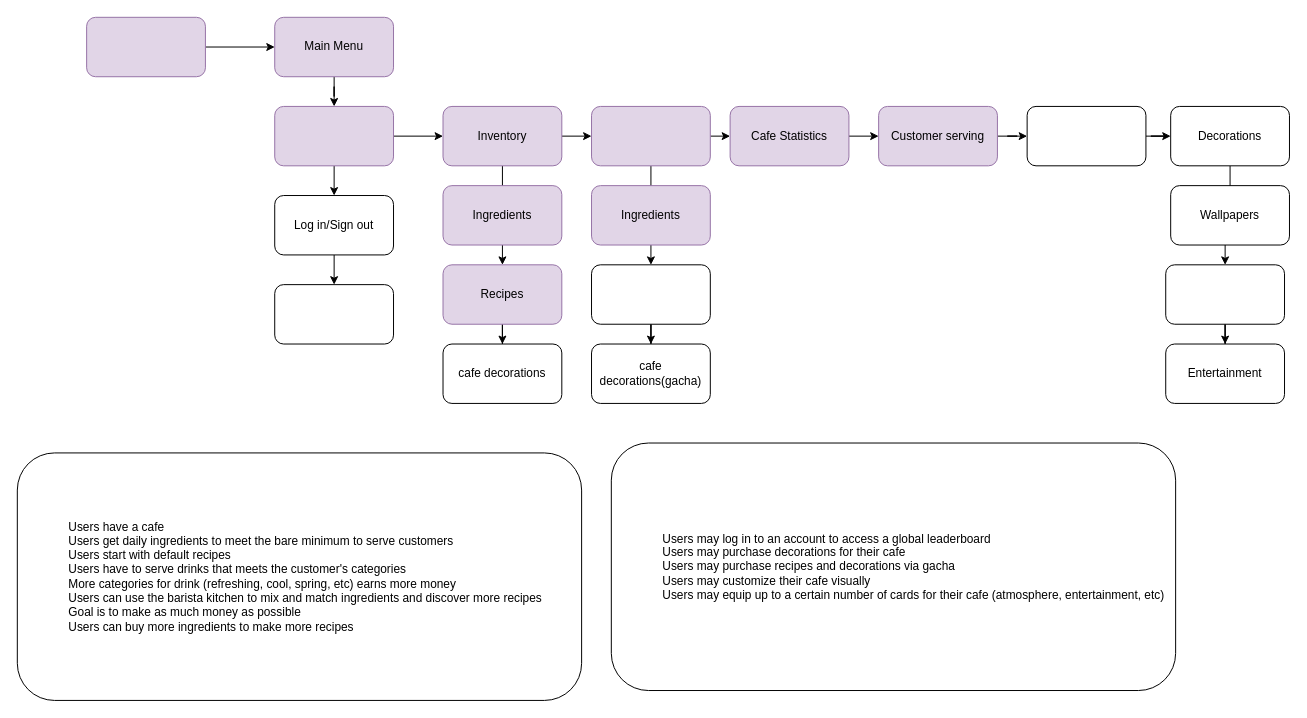
Some shapes in this 1307 by 718 pixel diagram are drawn without their labels. The centre of each missing label's shape, as x and y in pixels:
Barista Kitchen: the point at 1086,135
Cafe: the point at 334,135
Furniture: the point at 1225,294
Leaderboard: the point at 334,314
Load game: the point at 145,46
Recipes(gacha): the point at 650,294
Store: the point at 650,135
